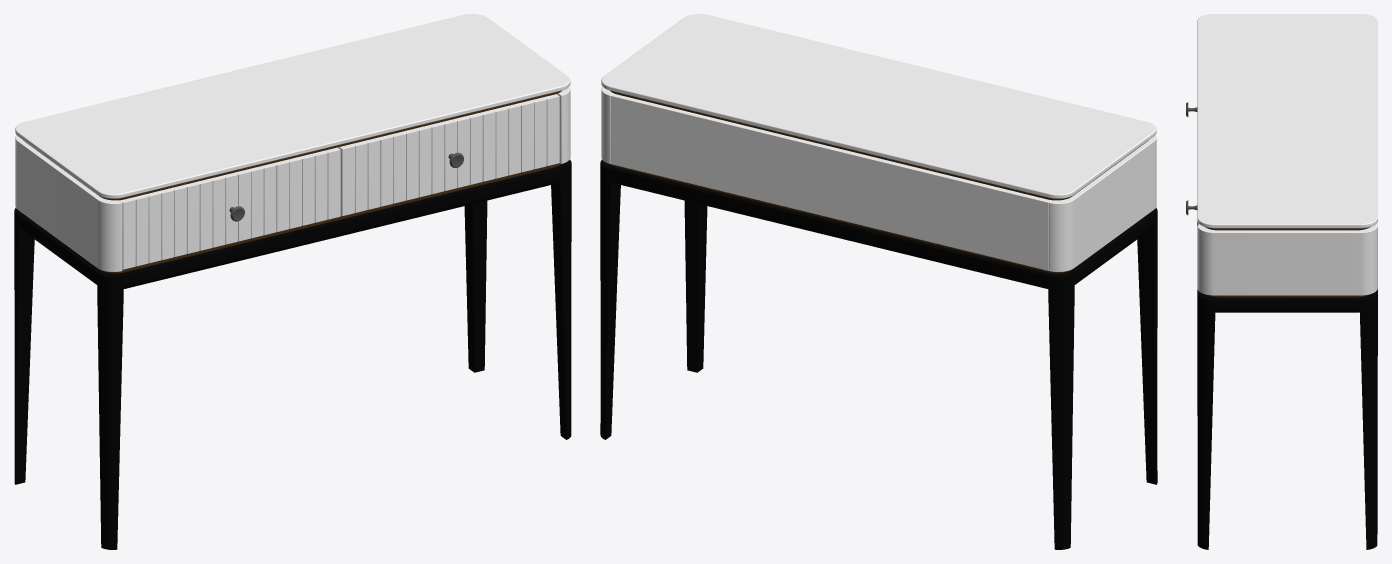
The model's file is Table.fbx.
3 views of the same model, side by side, from view 1: azimuth 30°, elevation 25°; view 2: azimuth 150°, elevation 25°; view 3: azimuth 270°, elevation 25° (orthographic). The views are drawn at different scales.
Visible parts, largest first — view 1: Table_001; view 2: Table_001; view 3: Table_001.
Boxes of the visible parts, x1=… form: Table_001: x1=14, y1=14, x2=571, y2=549; Table_001: x1=600, y1=14, x2=1157, y2=549; Table_001: x1=1186, y1=14, x2=1377, y2=549.
Size of the model in its own units: 1104 by 796 by 425.
